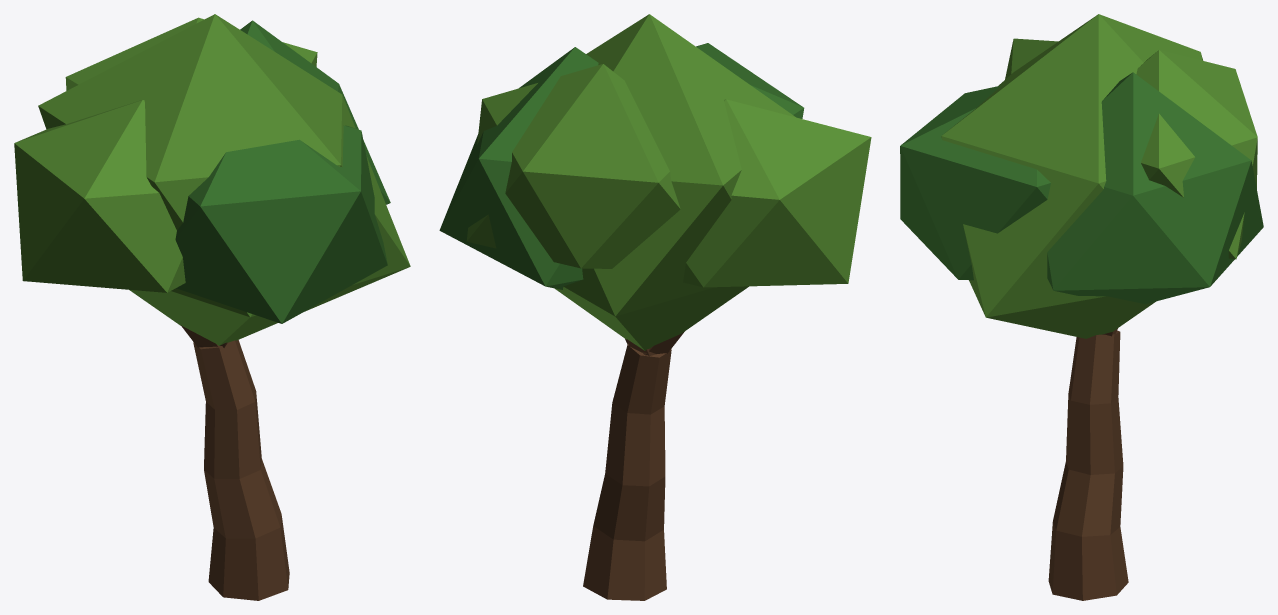
File: Tree_Oak_A.glb
The picture shows the model from 3 angles, left to right: view 1: azimuth 30°, elevation 25°; view 2: azimuth 150°, elevation 25°; view 3: azimuth 270°, elevation 25°; orthographic projection. The views are drawn at different scales.
Parts seen in each view (by area): view 1: Tree_Oak_A; view 2: Tree_Oak_A; view 3: Tree_Oak_A.
Boxes of the visible parts, x1,y1,x2,y2 form: Tree_Oak_A: [14, 14, 410, 600]; Tree_Oak_A: [439, 14, 871, 600]; Tree_Oak_A: [900, 14, 1263, 600].
Size of the model in its own units: 3.02 by 4.77 by 2.81.
